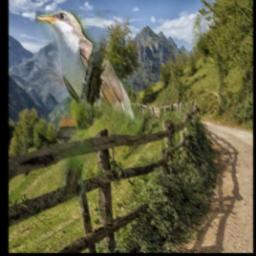Cuckoo: (36, 10, 169, 201)
